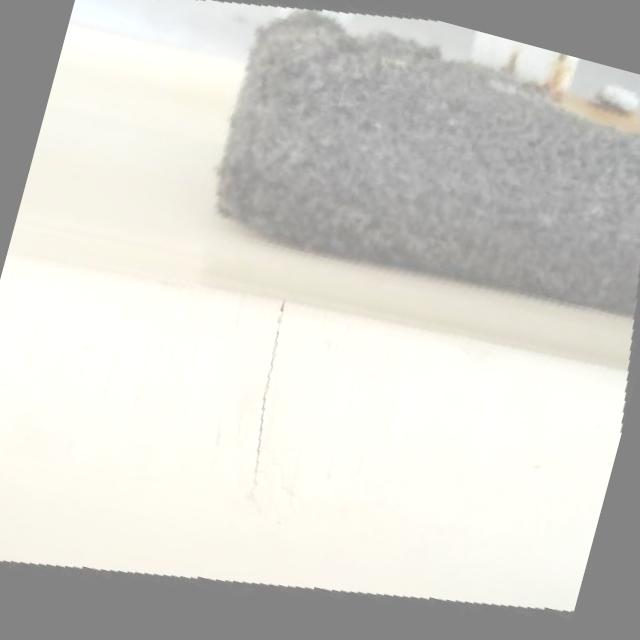crack: (230, 306, 304, 500)
